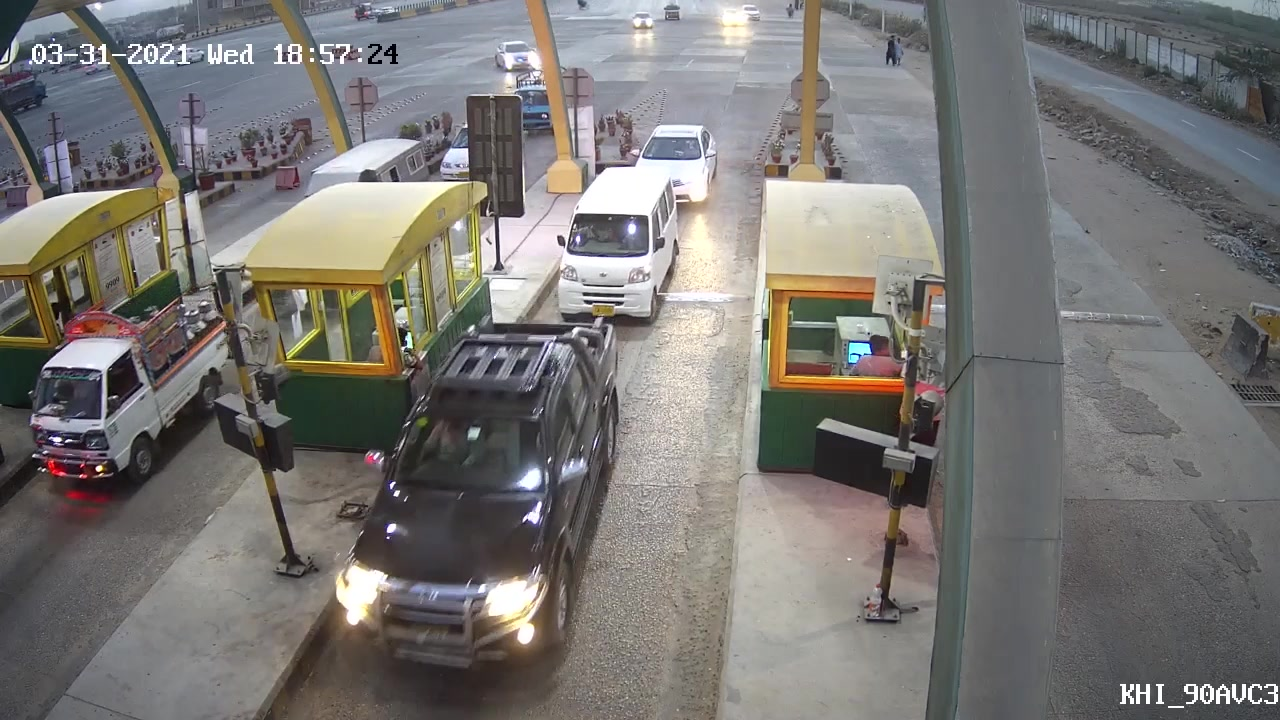F1: (325, 313, 632, 696)
